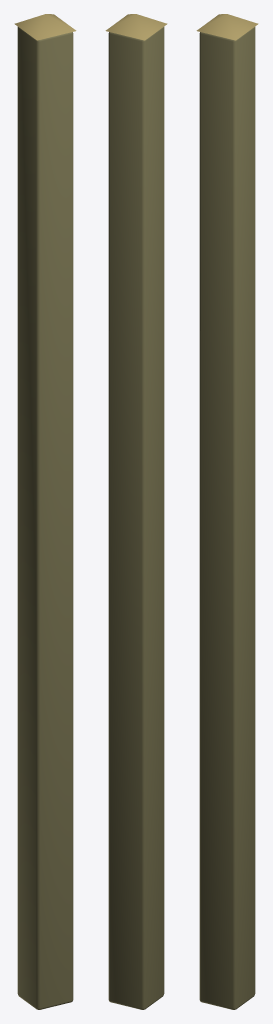
File: signpost.glb
3 renders of one model, left to right at view 1: azimuth 30°, elevation 25°; view 2: azimuth 150°, elevation 25°; view 3: azimuth 330°, elevation 25°, orthographic.
Parts seen in each view (by area): view 1: signpost; view 2: signpost; view 3: signpost.
Part boxes in pixels (left/top/right/bottom): signpost: left=14, top=14, right=76, bottom=1009; signpost: left=105, top=14, right=167, bottom=1009; signpost: left=196, top=14, right=258, bottom=1009.
Size of the model in its own units: 0.0918 by 2.18 by 0.0918.
